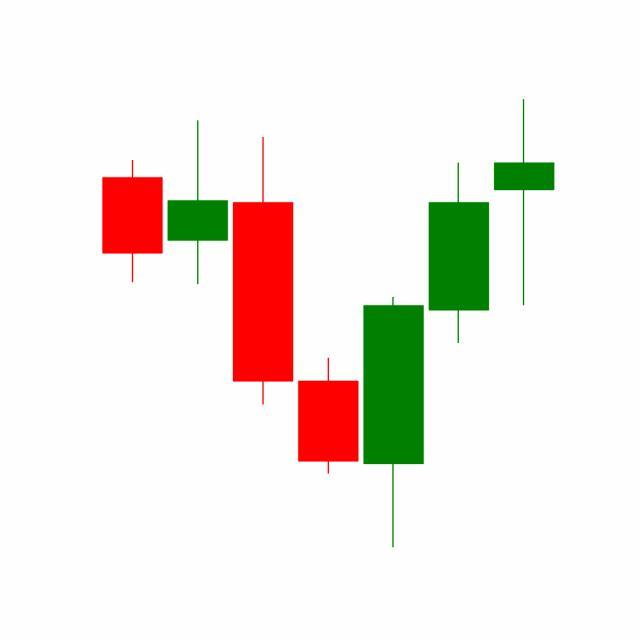Advance Block: (360, 99, 556, 549)
